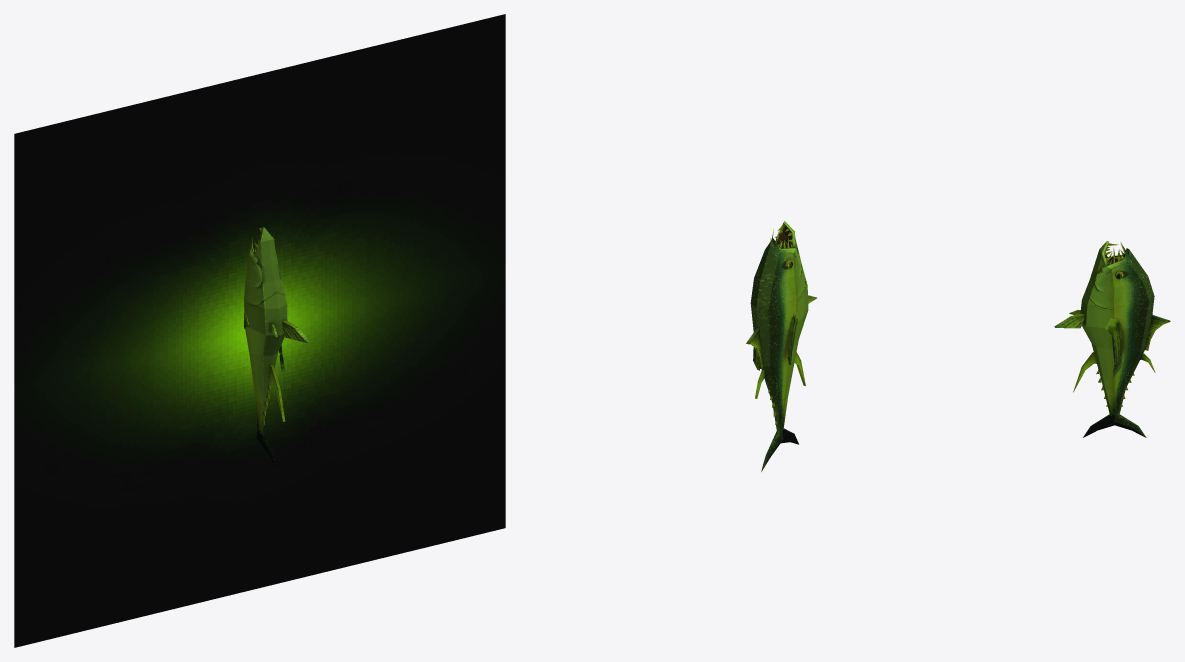
Rendered from item_fish_chewna.glb.
3 views of the same model, side by side, from view 1: azimuth 30°, elevation 25°; view 2: azimuth 150°, elevation 25°; view 3: azimuth 270°, elevation 25° (orthographic). The views are drawn at different scales.
Parts seen in each view (by area): view 1: Quad, fish_tuna_mutated; view 2: fish_tuna_mutated; view 3: fish_tuna_mutated.
Part boxes in pixels (x1=…): Quad: x1=14, y1=14, x2=505, y2=647; fish_tuna_mutated: x1=244, y1=227, x2=310, y2=471; fish_tuna_mutated: x1=746, y1=221, x2=816, y2=471; fish_tuna_mutated: x1=1054, y1=241, x2=1170, y2=437.
Bounding box in the file's own units: 1.36 × 1.36 × 0.3329.
2 materials, 2 textured.
